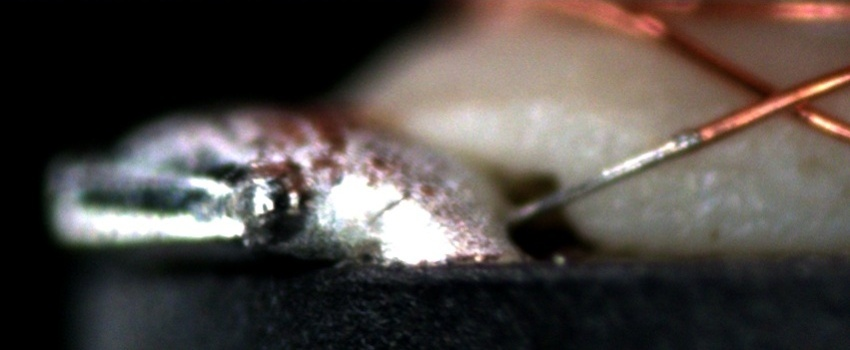CL: (730, 67, 830, 129)
DL: (638, 151, 794, 182)
TS: (506, 132, 702, 220)
